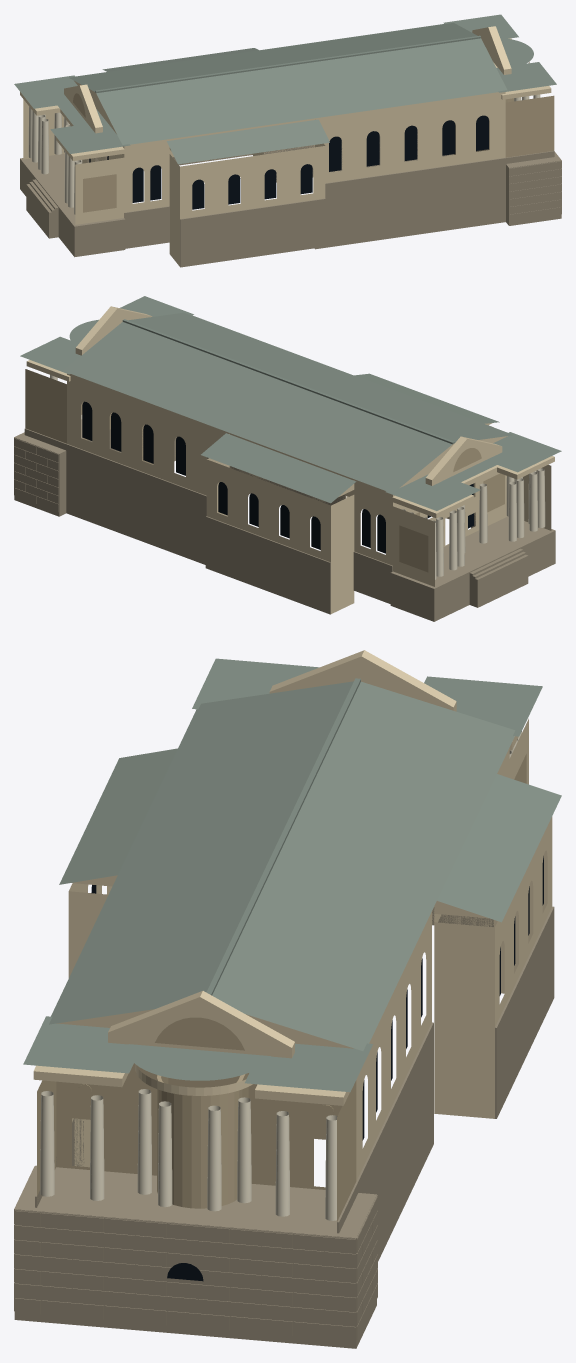
The model's file is kino_ukraina.lod.glb.
The picture shows the model from 3 angles, top to bottom: view 1: azimuth 30°, elevation 25°; view 2: azimuth 150°, elevation 25°; view 3: azimuth 270°, elevation 25°; orthographic projection. The views are drawn at different scales.
Visible parts, largest first — view 1: kino_ukraina_roof, kino_ukraina_stone, kino_ukraina_wall, kino_ukraina_glass, kino_ukraina_wall2, kino_ukraina_trim_s; view 2: kino_ukraina_roof, kino_ukraina_stone, kino_ukraina_wall, kino_ukraina_wall2, kino_ukraina_trim_s, kino_ukraina_glass; view 3: kino_ukraina_roof, kino_ukraina_stone, kino_ukraina_wall, kino_ukraina_wall2, kino_ukraina_trim_s, kino_ukraina_glass.
Boxes of the visible parts, bbox=[...] form: kino_ukraina_roof: bbox=[14, 14, 556, 164]; kino_ukraina_stone: bbox=[20, 128, 561, 267]; kino_ukraina_wall: bbox=[20, 26, 551, 266]; kino_ukraina_glass: bbox=[89, 115, 488, 209]; kino_ukraina_wall2: bbox=[73, 93, 554, 212]; kino_ukraina_trim_s: bbox=[28, 94, 540, 214]; kino_ukraina_roof: bbox=[20, 296, 561, 510]; kino_ukraina_stone: bbox=[14, 419, 555, 621]; kino_ukraina_wall: bbox=[26, 306, 554, 613]; kino_ukraina_wall2: bbox=[25, 369, 504, 572]; kino_ukraina_trim_s: bbox=[50, 375, 545, 579]; kino_ukraina_glass: bbox=[82, 401, 473, 553]; kino_ukraina_roof: bbox=[23, 658, 561, 1092]; kino_ukraina_stone: bbox=[14, 906, 554, 1348]; kino_ukraina_wall: bbox=[33, 650, 552, 1180]; kino_ukraina_wall2: bbox=[37, 754, 526, 1221]; kino_ukraina_trim_s: bbox=[40, 731, 521, 1220]; kino_ukraina_glass: bbox=[91, 856, 543, 1281].
Bounding box in the file's own units: 61.19 × 20.03 × 32.4.
